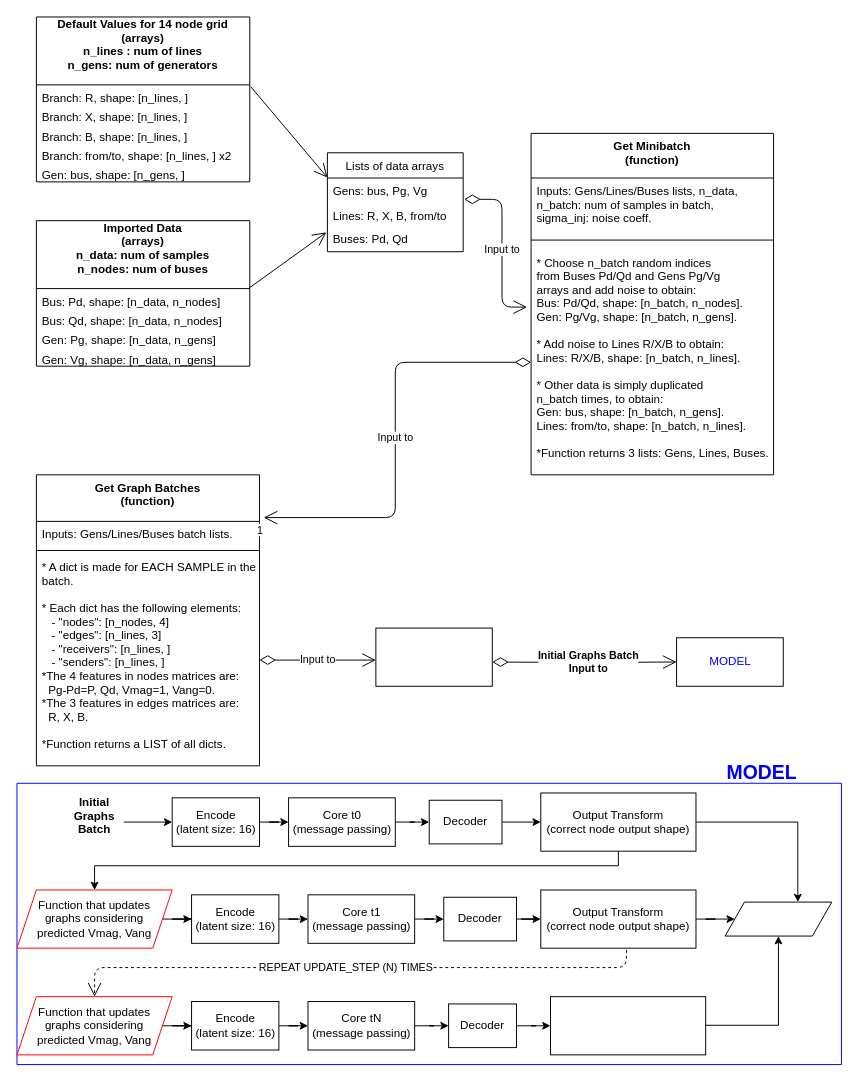
Image size: 858x1082. Some labels were removed from this diagram. The shapes that lost their labels are listed below. From the top down, each one's centre as x and y in pixels, then its label:
(433,656): Data dicts to graphs tuple (library function)
(778,918): Append to: Output_Ops
(628,1025): FINAL Output Transform (correct node output shape)
